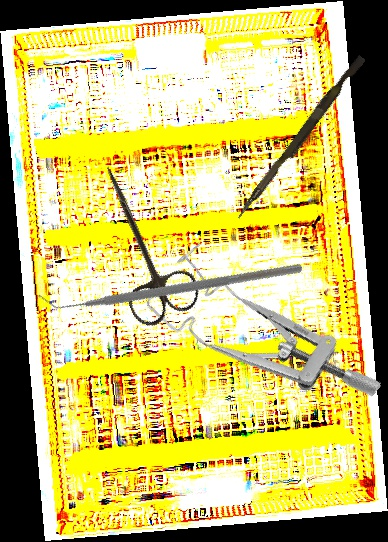Chopper: (35, 149, 306, 415)
Iris Scissors: (72, 153, 206, 332)
Pusher: (235, 51, 366, 225)
Speculum: (140, 225, 385, 460)
